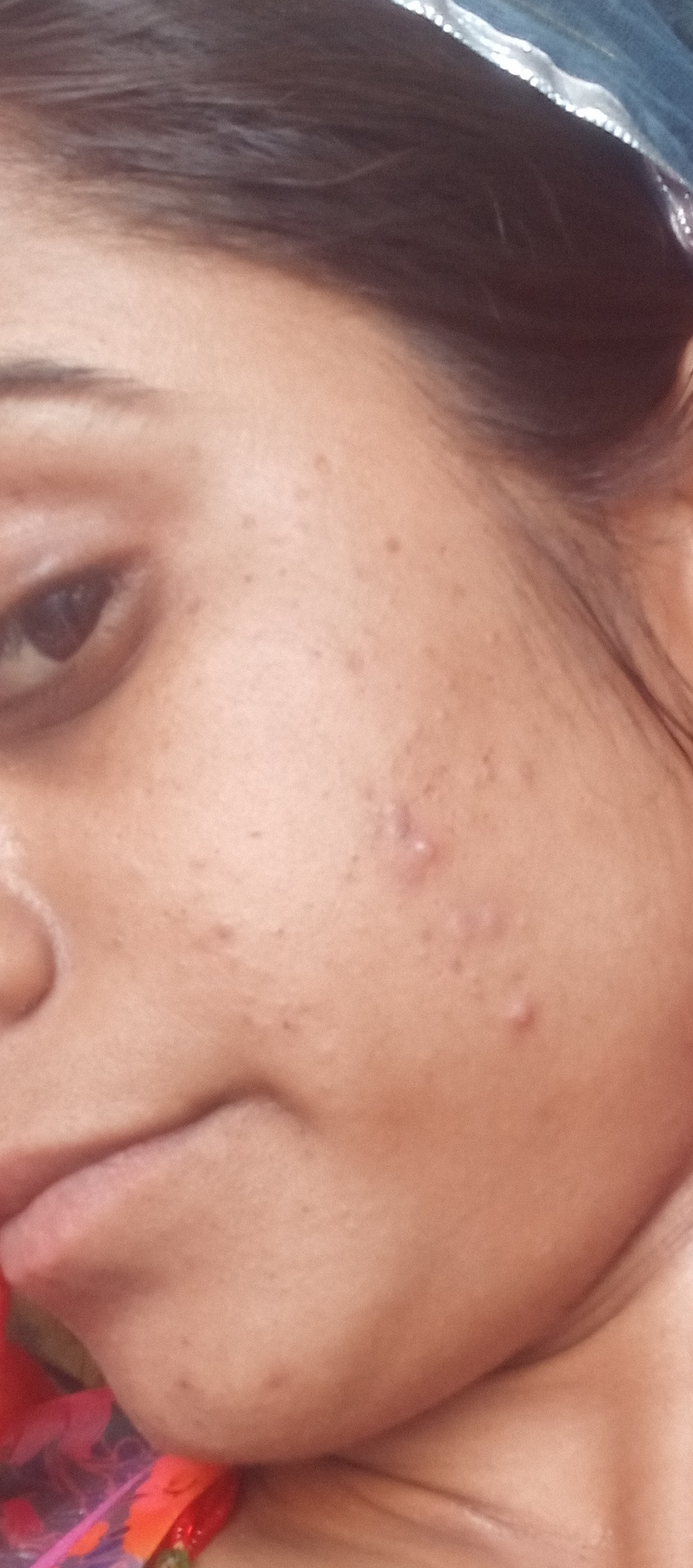closed_comedone: (466, 744, 543, 790)
papule: (489, 971, 574, 1044)
pustule: (370, 782, 450, 881)
